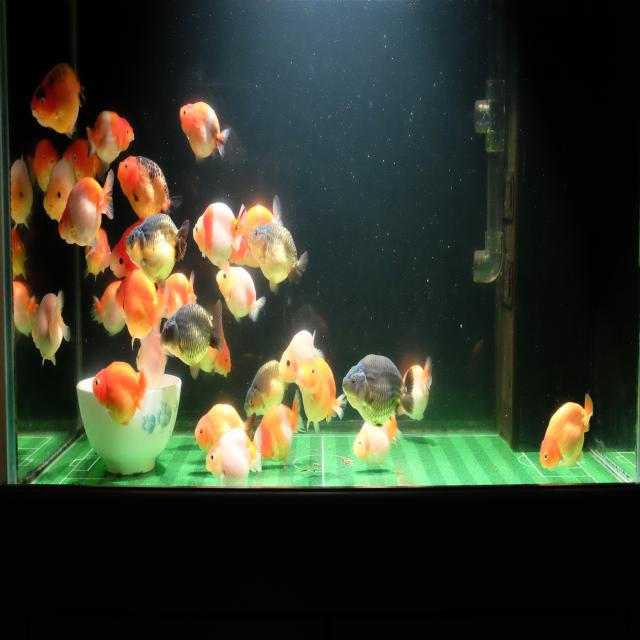Tilapia: (342, 353, 415, 428), (160, 298, 224, 382), (124, 215, 190, 294), (57, 167, 115, 250), (539, 392, 595, 473), (30, 59, 85, 140), (116, 155, 182, 222), (249, 222, 308, 295), (296, 354, 346, 435), (92, 359, 148, 430), (228, 195, 284, 266), (194, 200, 245, 274), (253, 389, 300, 469), (205, 424, 264, 486), (116, 270, 159, 353), (30, 288, 71, 370), (194, 402, 255, 454), (180, 101, 230, 164), (215, 267, 266, 325), (86, 108, 135, 167), (352, 410, 403, 466), (278, 327, 327, 384), (246, 360, 290, 419), (43, 154, 79, 224), (108, 220, 146, 281), (90, 278, 128, 338), (156, 268, 197, 322), (8, 154, 34, 234), (402, 356, 432, 422), (26, 136, 59, 196), (12, 278, 37, 341), (83, 227, 111, 282), (5, 228, 28, 279)
